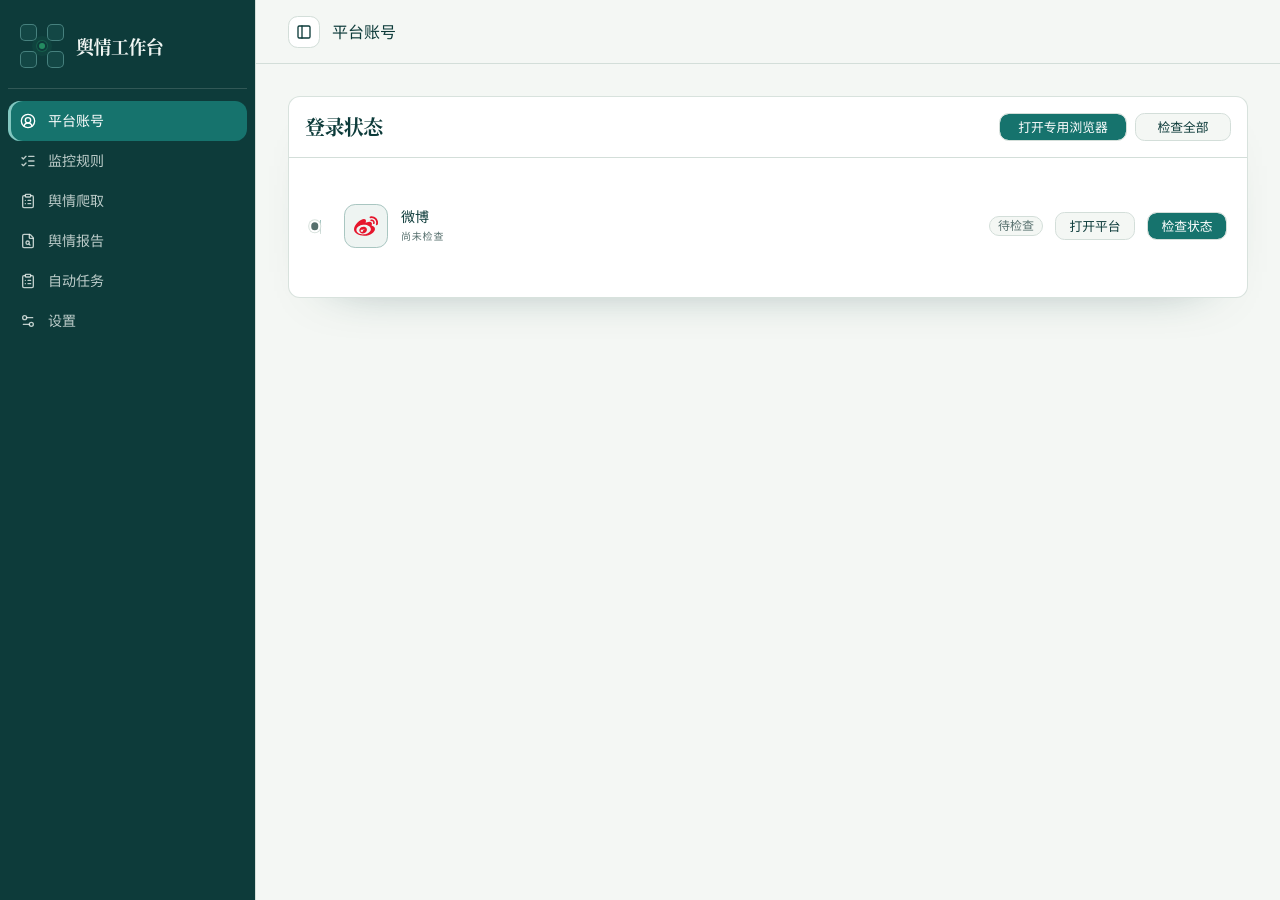
Test: OpinionWorkbench public opinion application › runs batch detection for Weibo only and prevents overlapping starts
Click the button "检查全部" at [1183, 127], box [1135,113,1231,141]
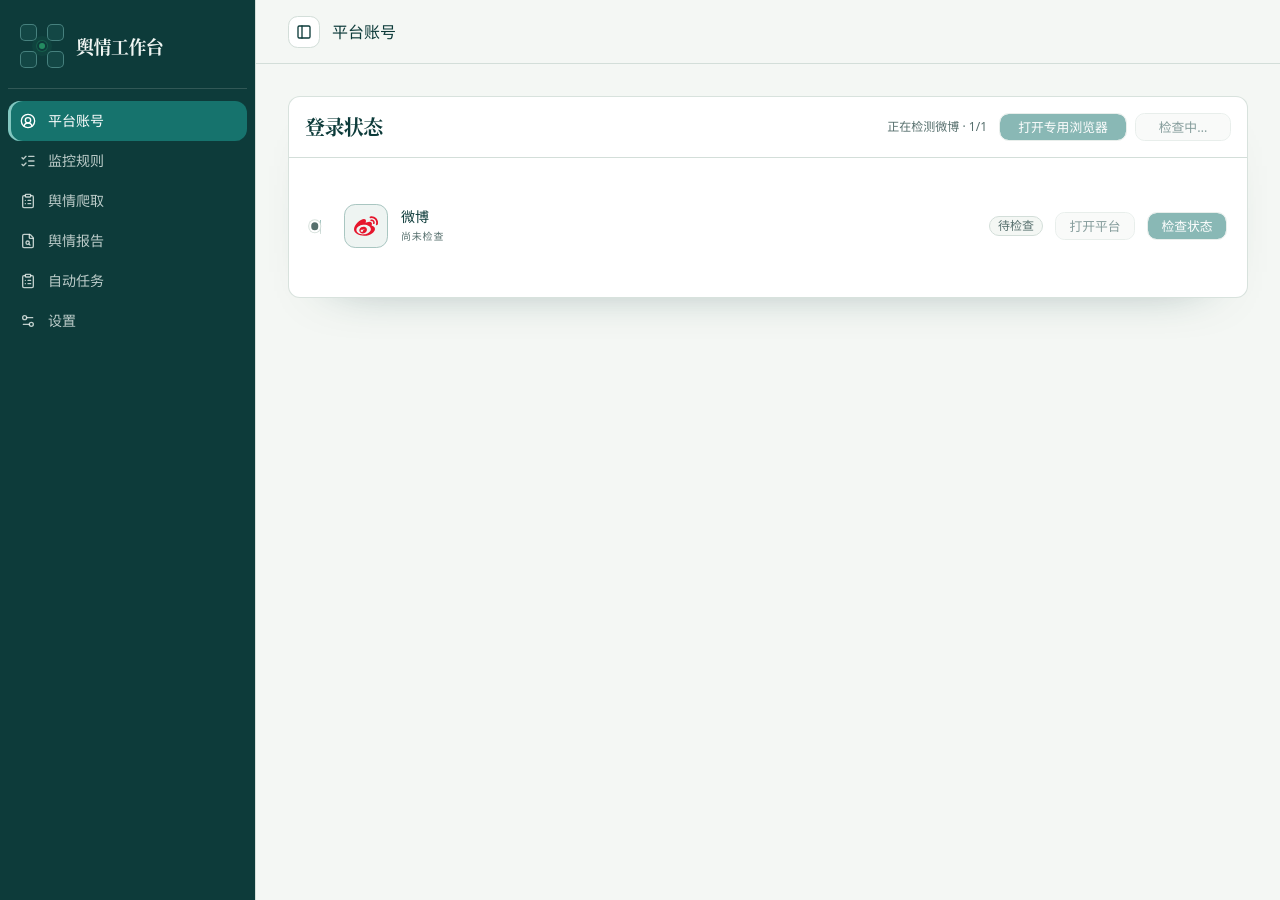
Check: the message reads "正在检测微博 · 1/1", box [887,118,987,135]
Check: the button "检查中…" is disabled, box [1135,113,1231,141]
